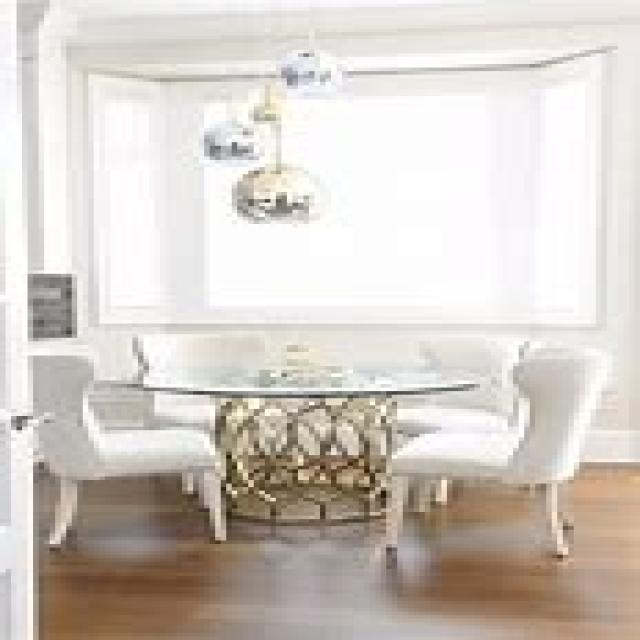chair: (381, 341, 612, 562), (22, 352, 226, 548)
table: (105, 363, 480, 533)
